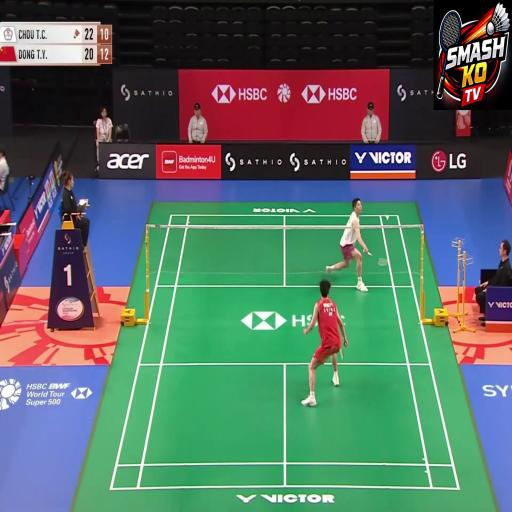player: (293, 263, 342, 381), (340, 194, 379, 334)
